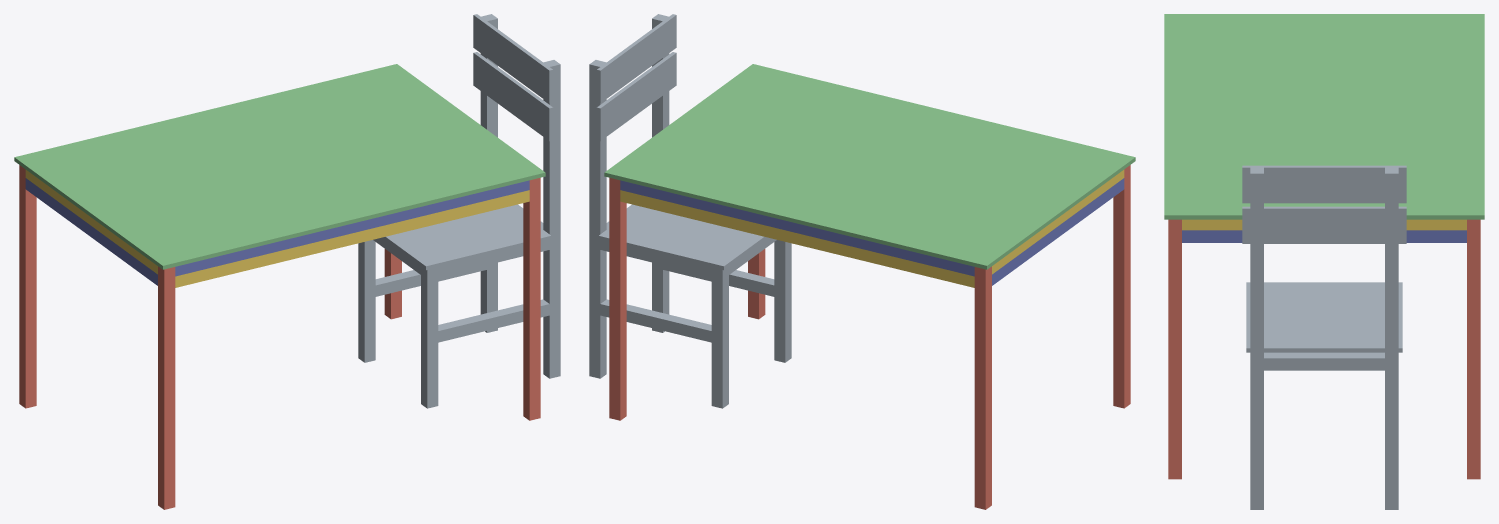
Rendered from desk v6.gltf.
The picture shows the model from 3 angles, left to right: view 1: azimuth 30°, elevation 25°; view 2: azimuth 150°, elevation 25°; view 3: azimuth 270°, elevation 25°; orthographic projection. The views are drawn at different scales.
Parts seen in each view (by area): view 1: object 4, 讀・ｭ・v6 (×10), object 1, object 3, object 2; view 2: object 4, 讀・ｭ・v6 (×10), object 1, object 3, object 2; view 3: object 4, 讀・ｭ・v6 (×6), object 1, object 2, object 3.
Part boxes in pixels (x1=…): object 4: x1=14, y1=64, x2=545, y2=269; 讀・ｭ・v6 (×10): x1=358, y1=14, x2=560, y2=408; object 1: x1=19, y1=165, x2=540, y2=509; object 3: x1=25, y1=170, x2=529, y2=287; object 2: x1=25, y1=178, x2=529, y2=285; object 4: x1=604, y1=64, x2=1135, y2=269; 讀・ｭ・v6 (×10): x1=589, y1=14, x2=791, y2=408; object 1: x1=609, y1=165, x2=1130, y2=509; object 3: x1=620, y1=170, x2=1124, y2=287; object 2: x1=620, y1=178, x2=1124, y2=285; object 4: x1=1164, y1=14, x2=1484, y2=219; 讀・ｭ・v6 (×6): x1=1242, y1=165, x2=1406, y2=509; object 1: x1=1168, y1=219, x2=1480, y2=479; object 2: x1=1182, y1=230, x2=1466, y2=242; object 3: x1=1182, y1=219, x2=1466, y2=230.
Size of the model in its own units: 140 by 95 by 82.
